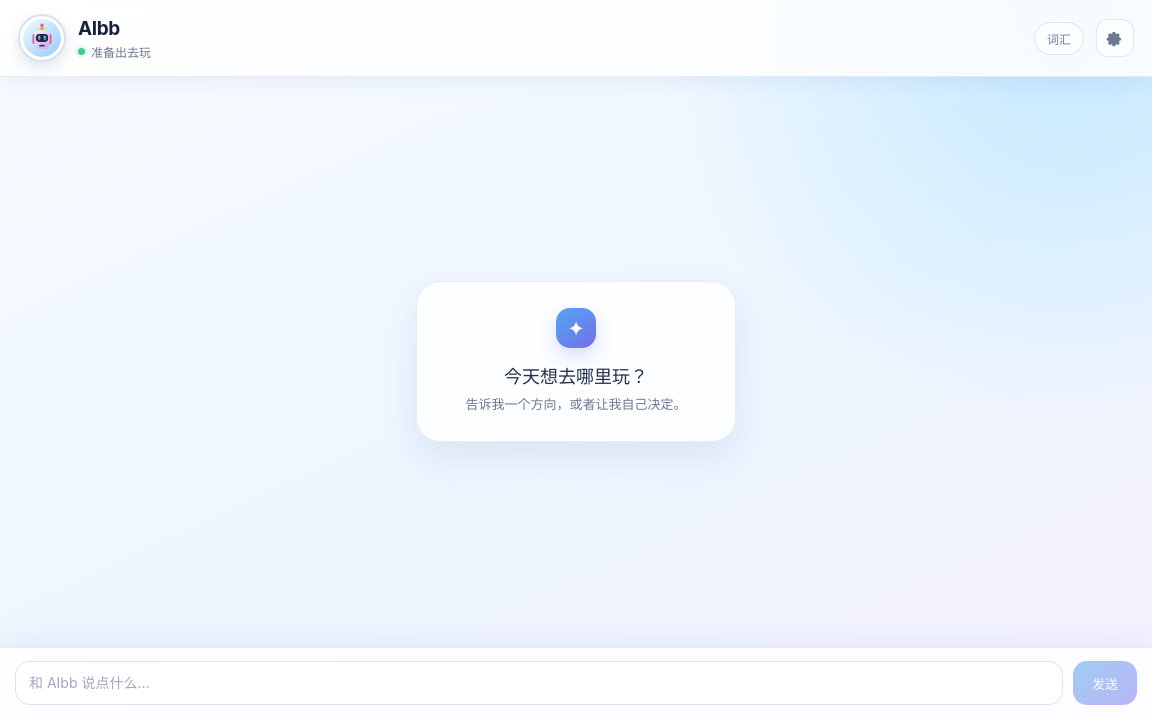
ChatPanel › keeps progress that arrives before the exploration-start response
Type "去玩" into the text box named "消息".
click(539, 683); type("去玩")  # box x1=15 y1=661 x2=1063 y2=705
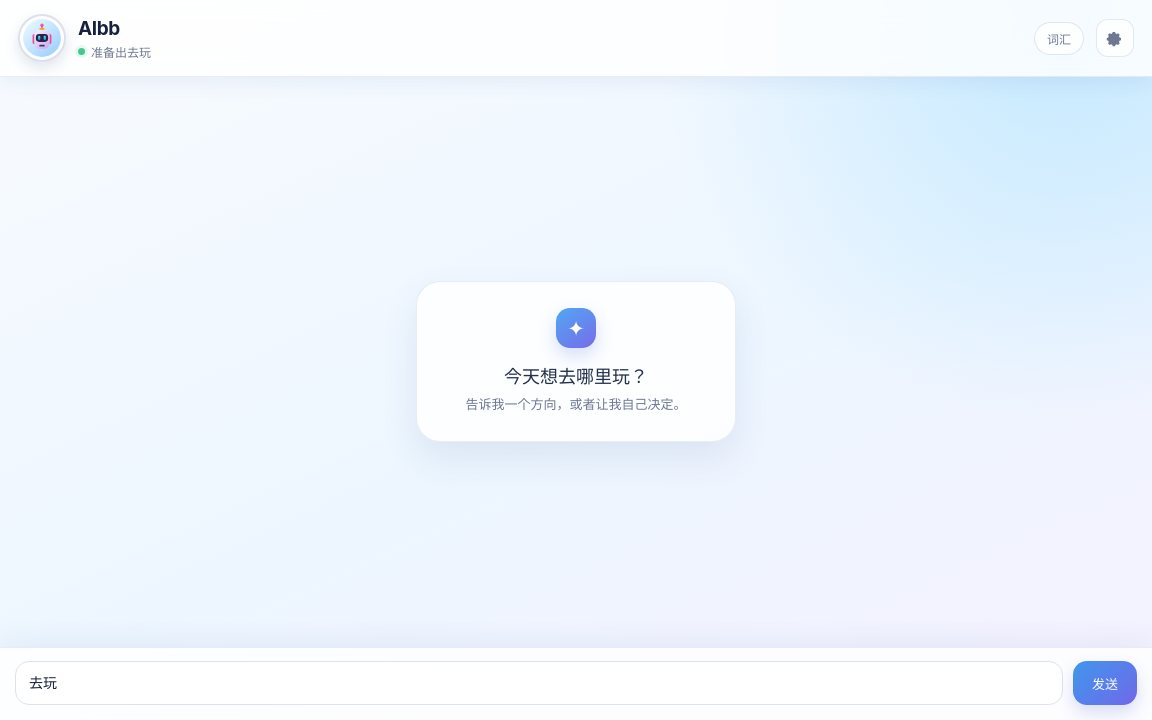
Press Enter in the text box named "消息", box x1=15 y1=661 x2=1063 y2=705
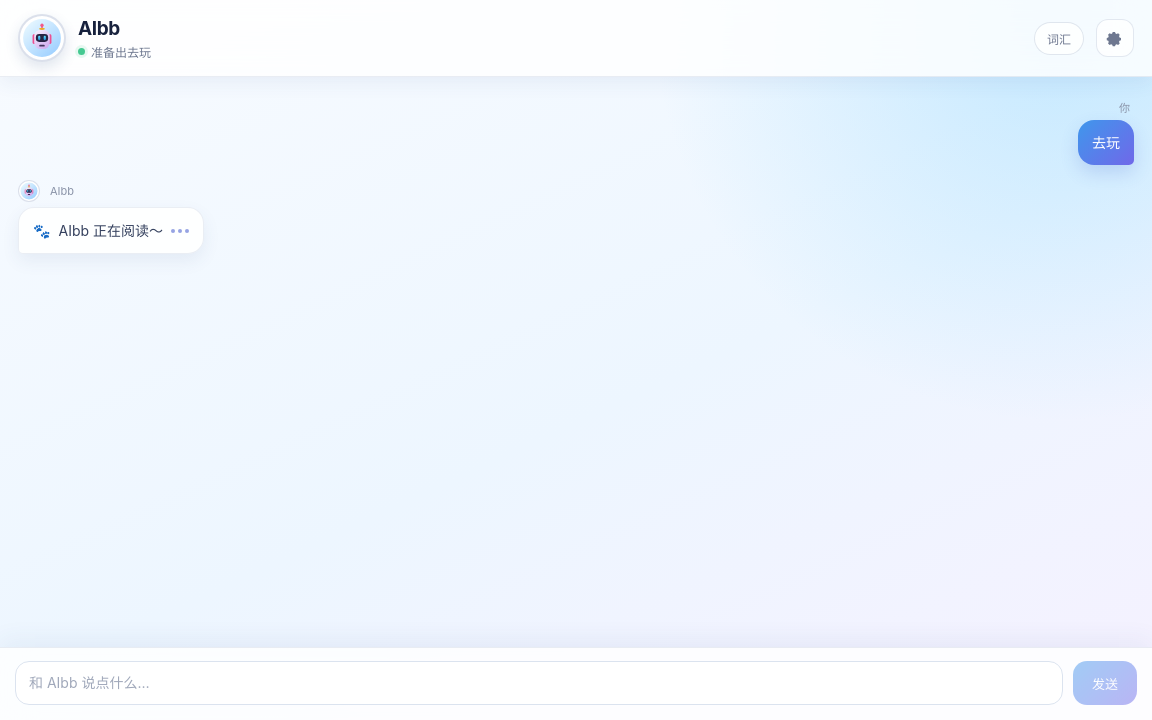
Now the text "AIbb 正在阅读～" is shown, box x1=58 y1=219 x2=163 y2=242
